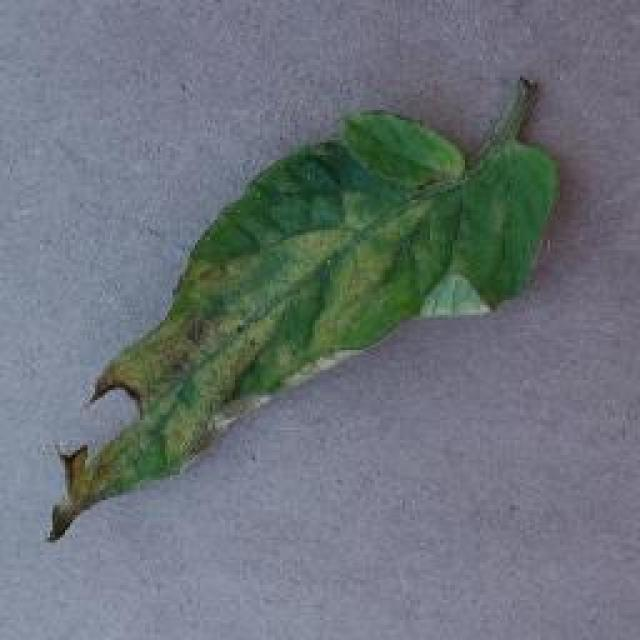Tomato___Leaf_Mold: (48, 78, 560, 542)
